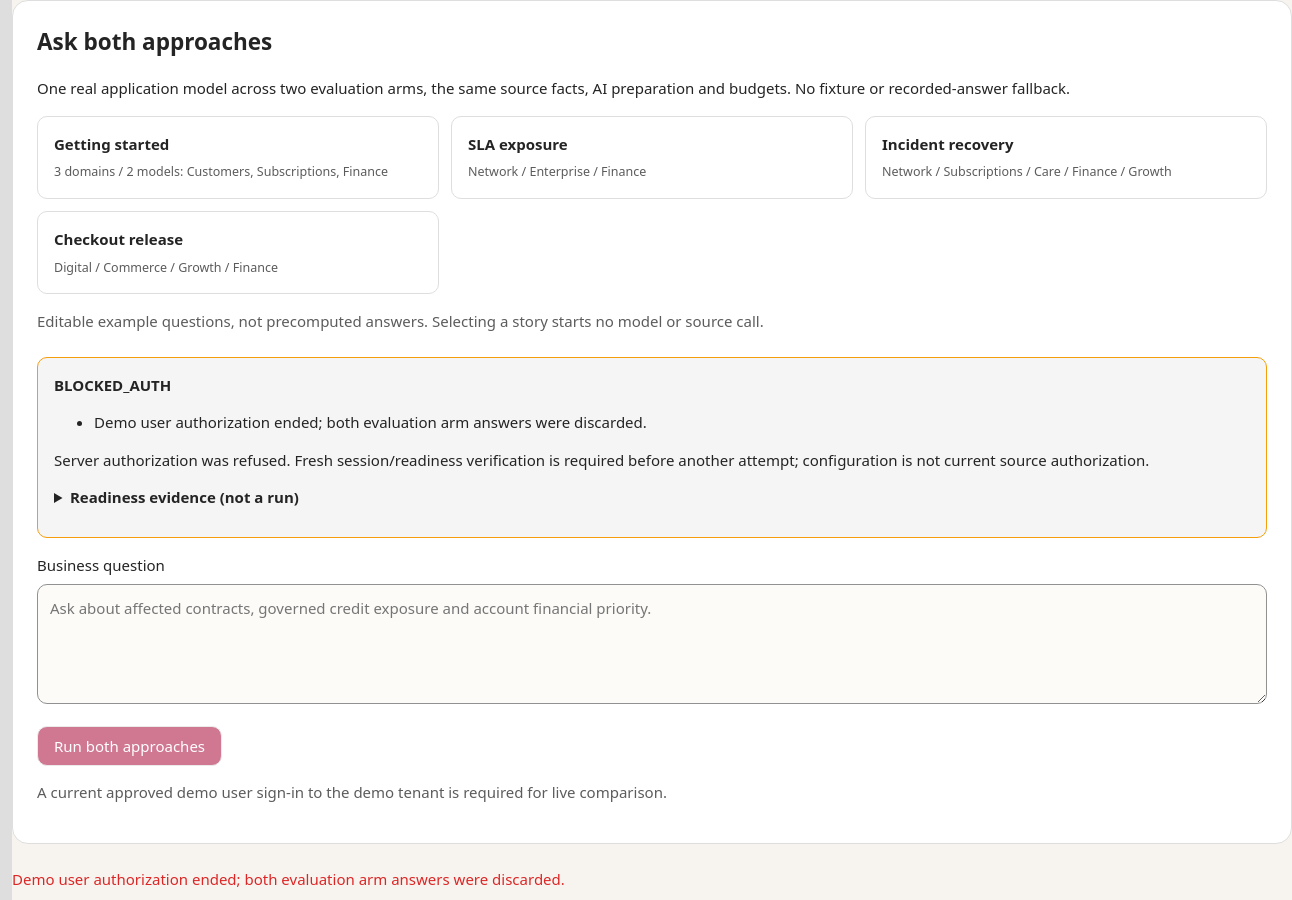
customer story questions › selects editable semantic questions without inference, source calls or recorded results
This screenshot has width=1292, height=900.
Click the button with aria-label "Getting started" at (112, 144), box [37,116,439,199]
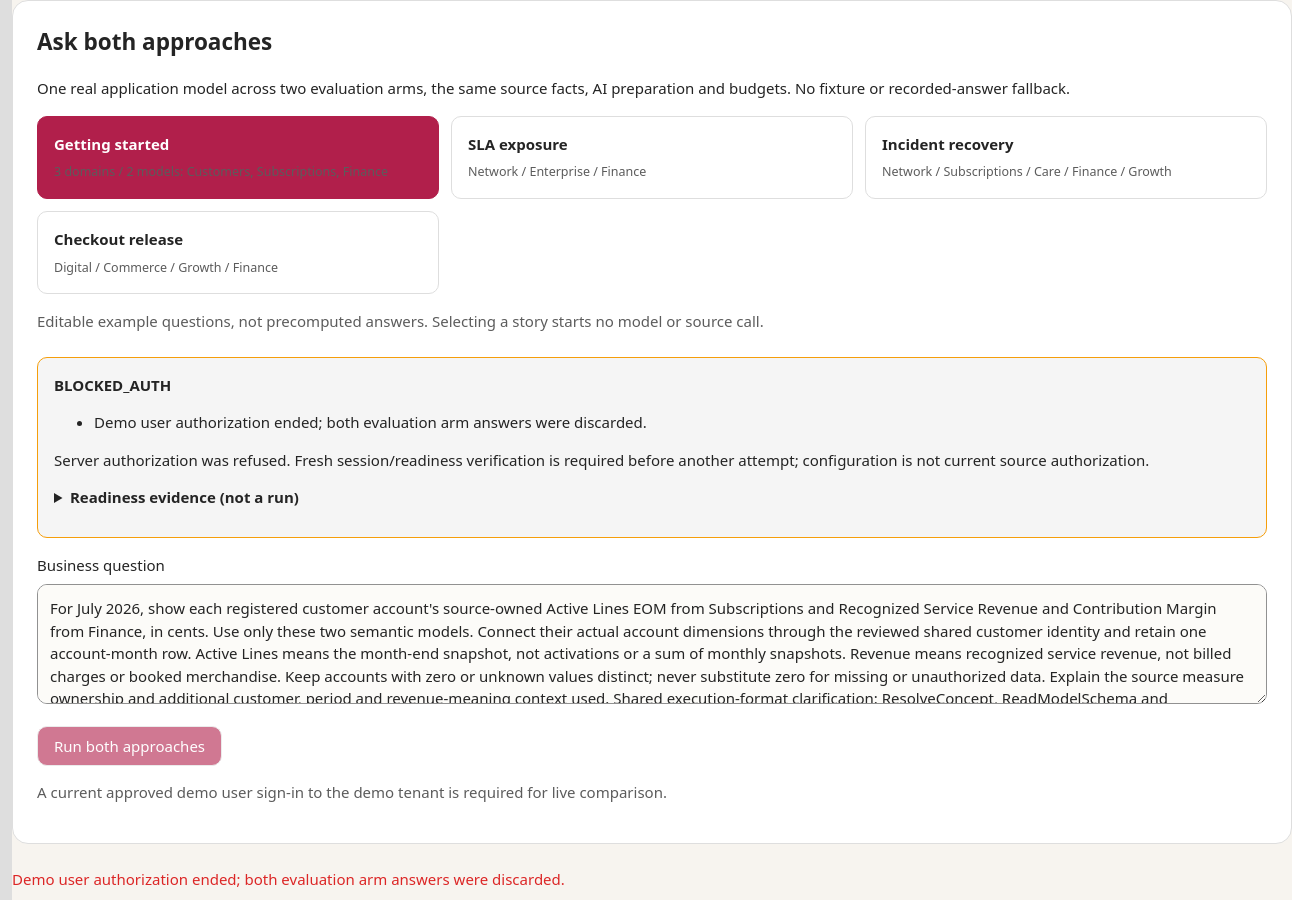
Check: the button with aria-label "Getting started" is pressed, box [37,116,439,199]
Click the button "SLA exposure Network / Enterprise / Finance" at (518, 144), box [451,116,853,199]
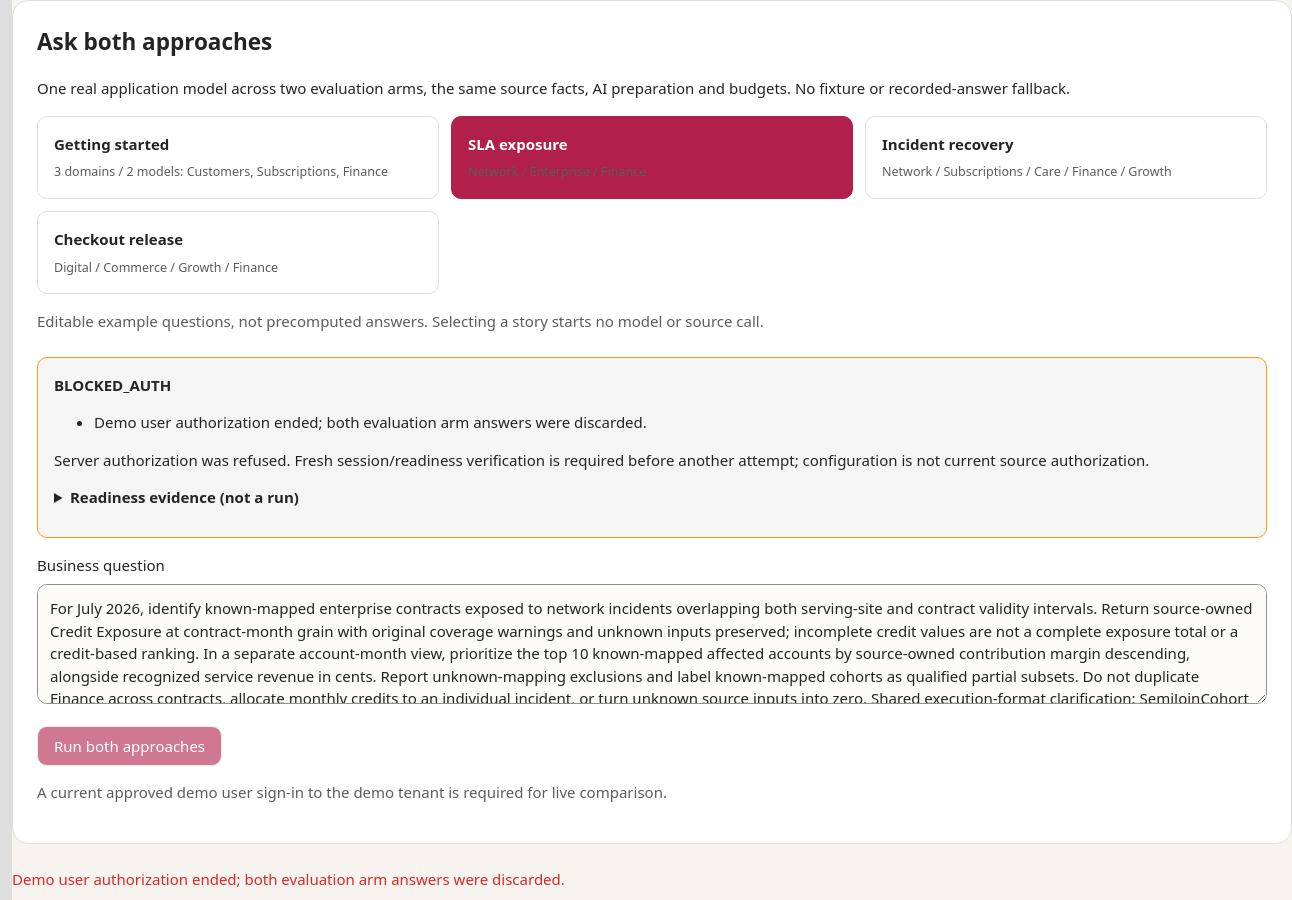
Check: the button "SLA exposure Network / Enterprise / Finance" is pressed, box [451,116,853,199]
Click the button with aria-label "Incident recovery" at (948, 144), box [865,116,1267,199]
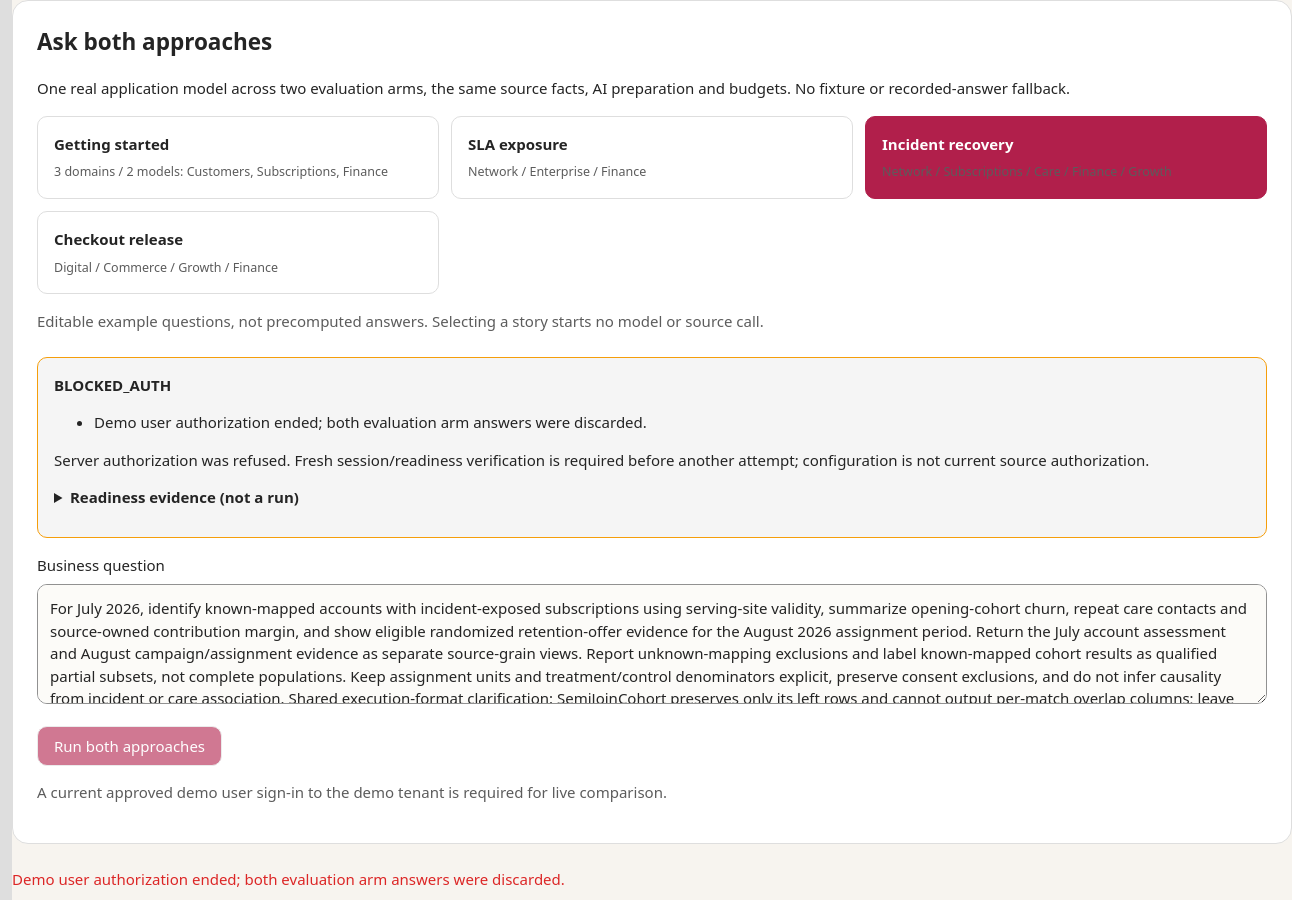
Check: the button with aria-label "Incident recovery" is pressed, box [865,116,1267,199]
Click the button "Checkout release Digital / Commerce / Growth / Finance" at (119, 239), box [37,211,439,294]
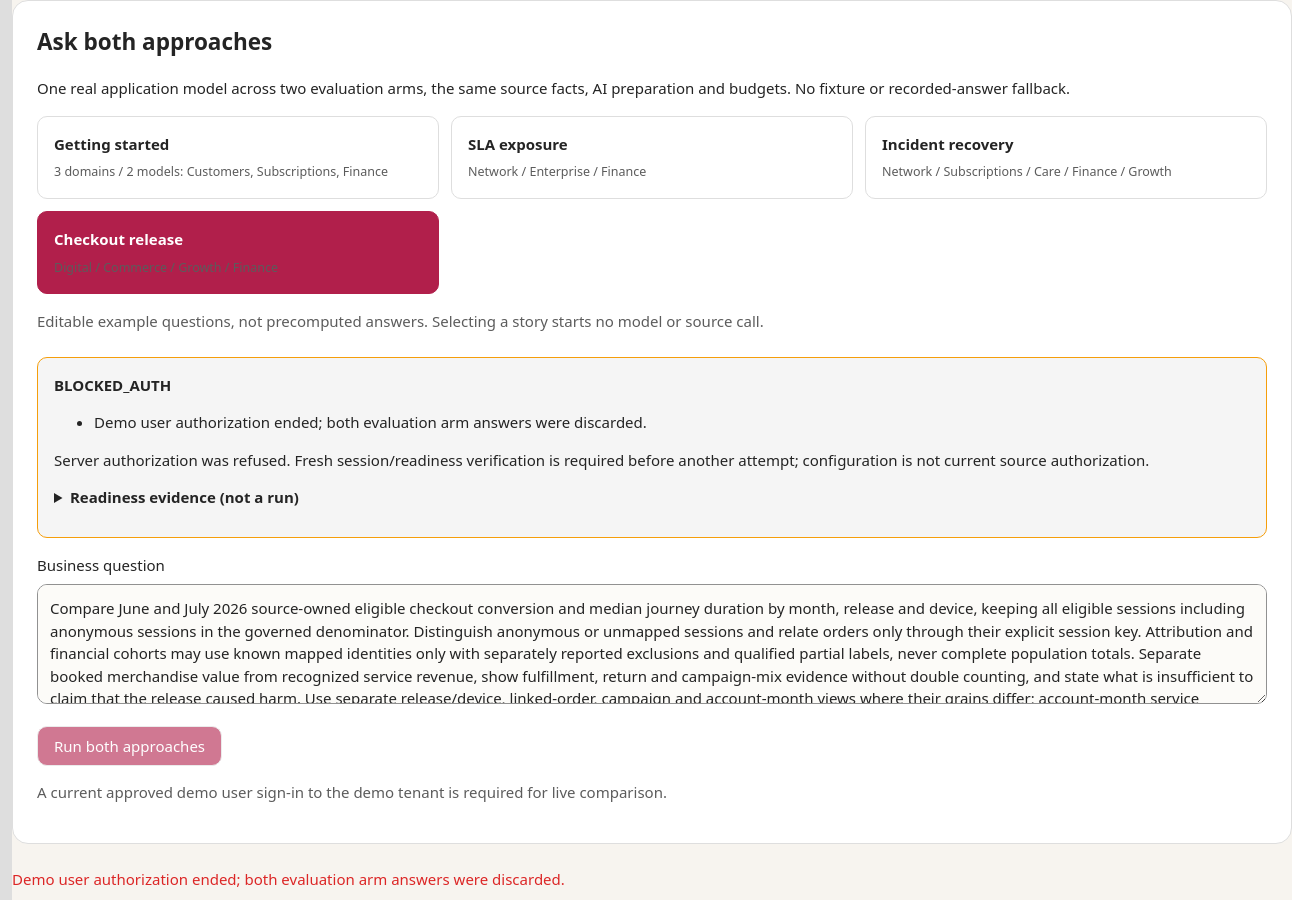
Check: the button "Run both approaches" is disabled, box [37,726,222,766]
Check: the button "Checkout release Digital / Commerce / Growth / Finance" is pressed, box [37,211,439,294]
